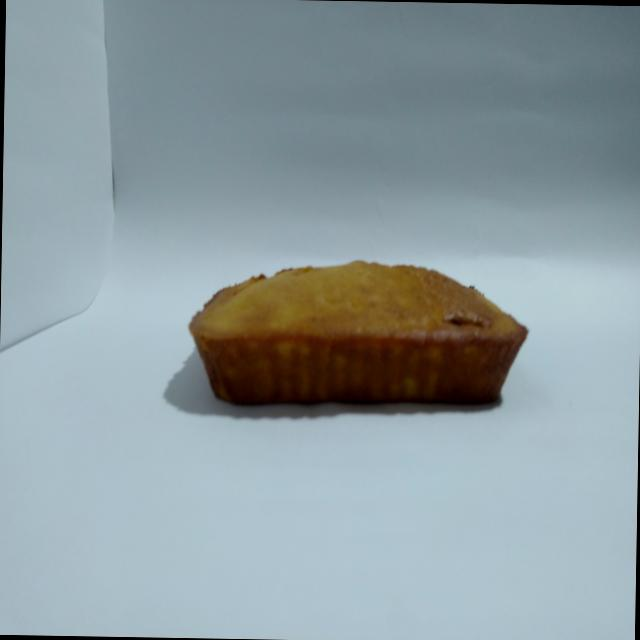Sopa: (182, 232, 534, 437)
